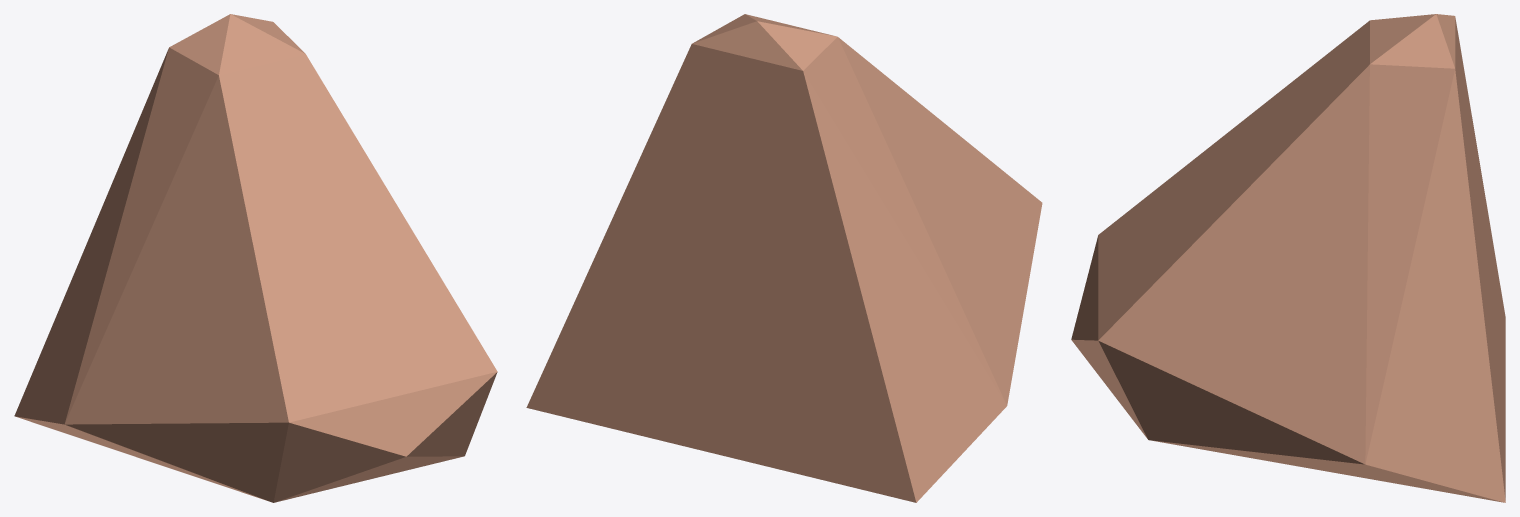
The model's file is nose_gn_bulb.glb.
3 renders of one model, left to right at view 1: azimuth 30°, elevation 25°; view 2: azimuth 150°, elevation 25°; view 3: azimuth 270°, elevation 25°, orthographic. The views are drawn at different scales.
Parts seen in each view (by area): view 1: Snout; view 2: Snout; view 3: Snout.
Part boxes in pixels (x1,y1,x2,y2): Snout: [14, 14, 497, 502]; Snout: [526, 14, 1042, 502]; Snout: [1071, 14, 1505, 502].
Bounding box in the file's own units: 0.046 × 0.042 × 0.0417.
Materials: 1 (1 with a texture image).
